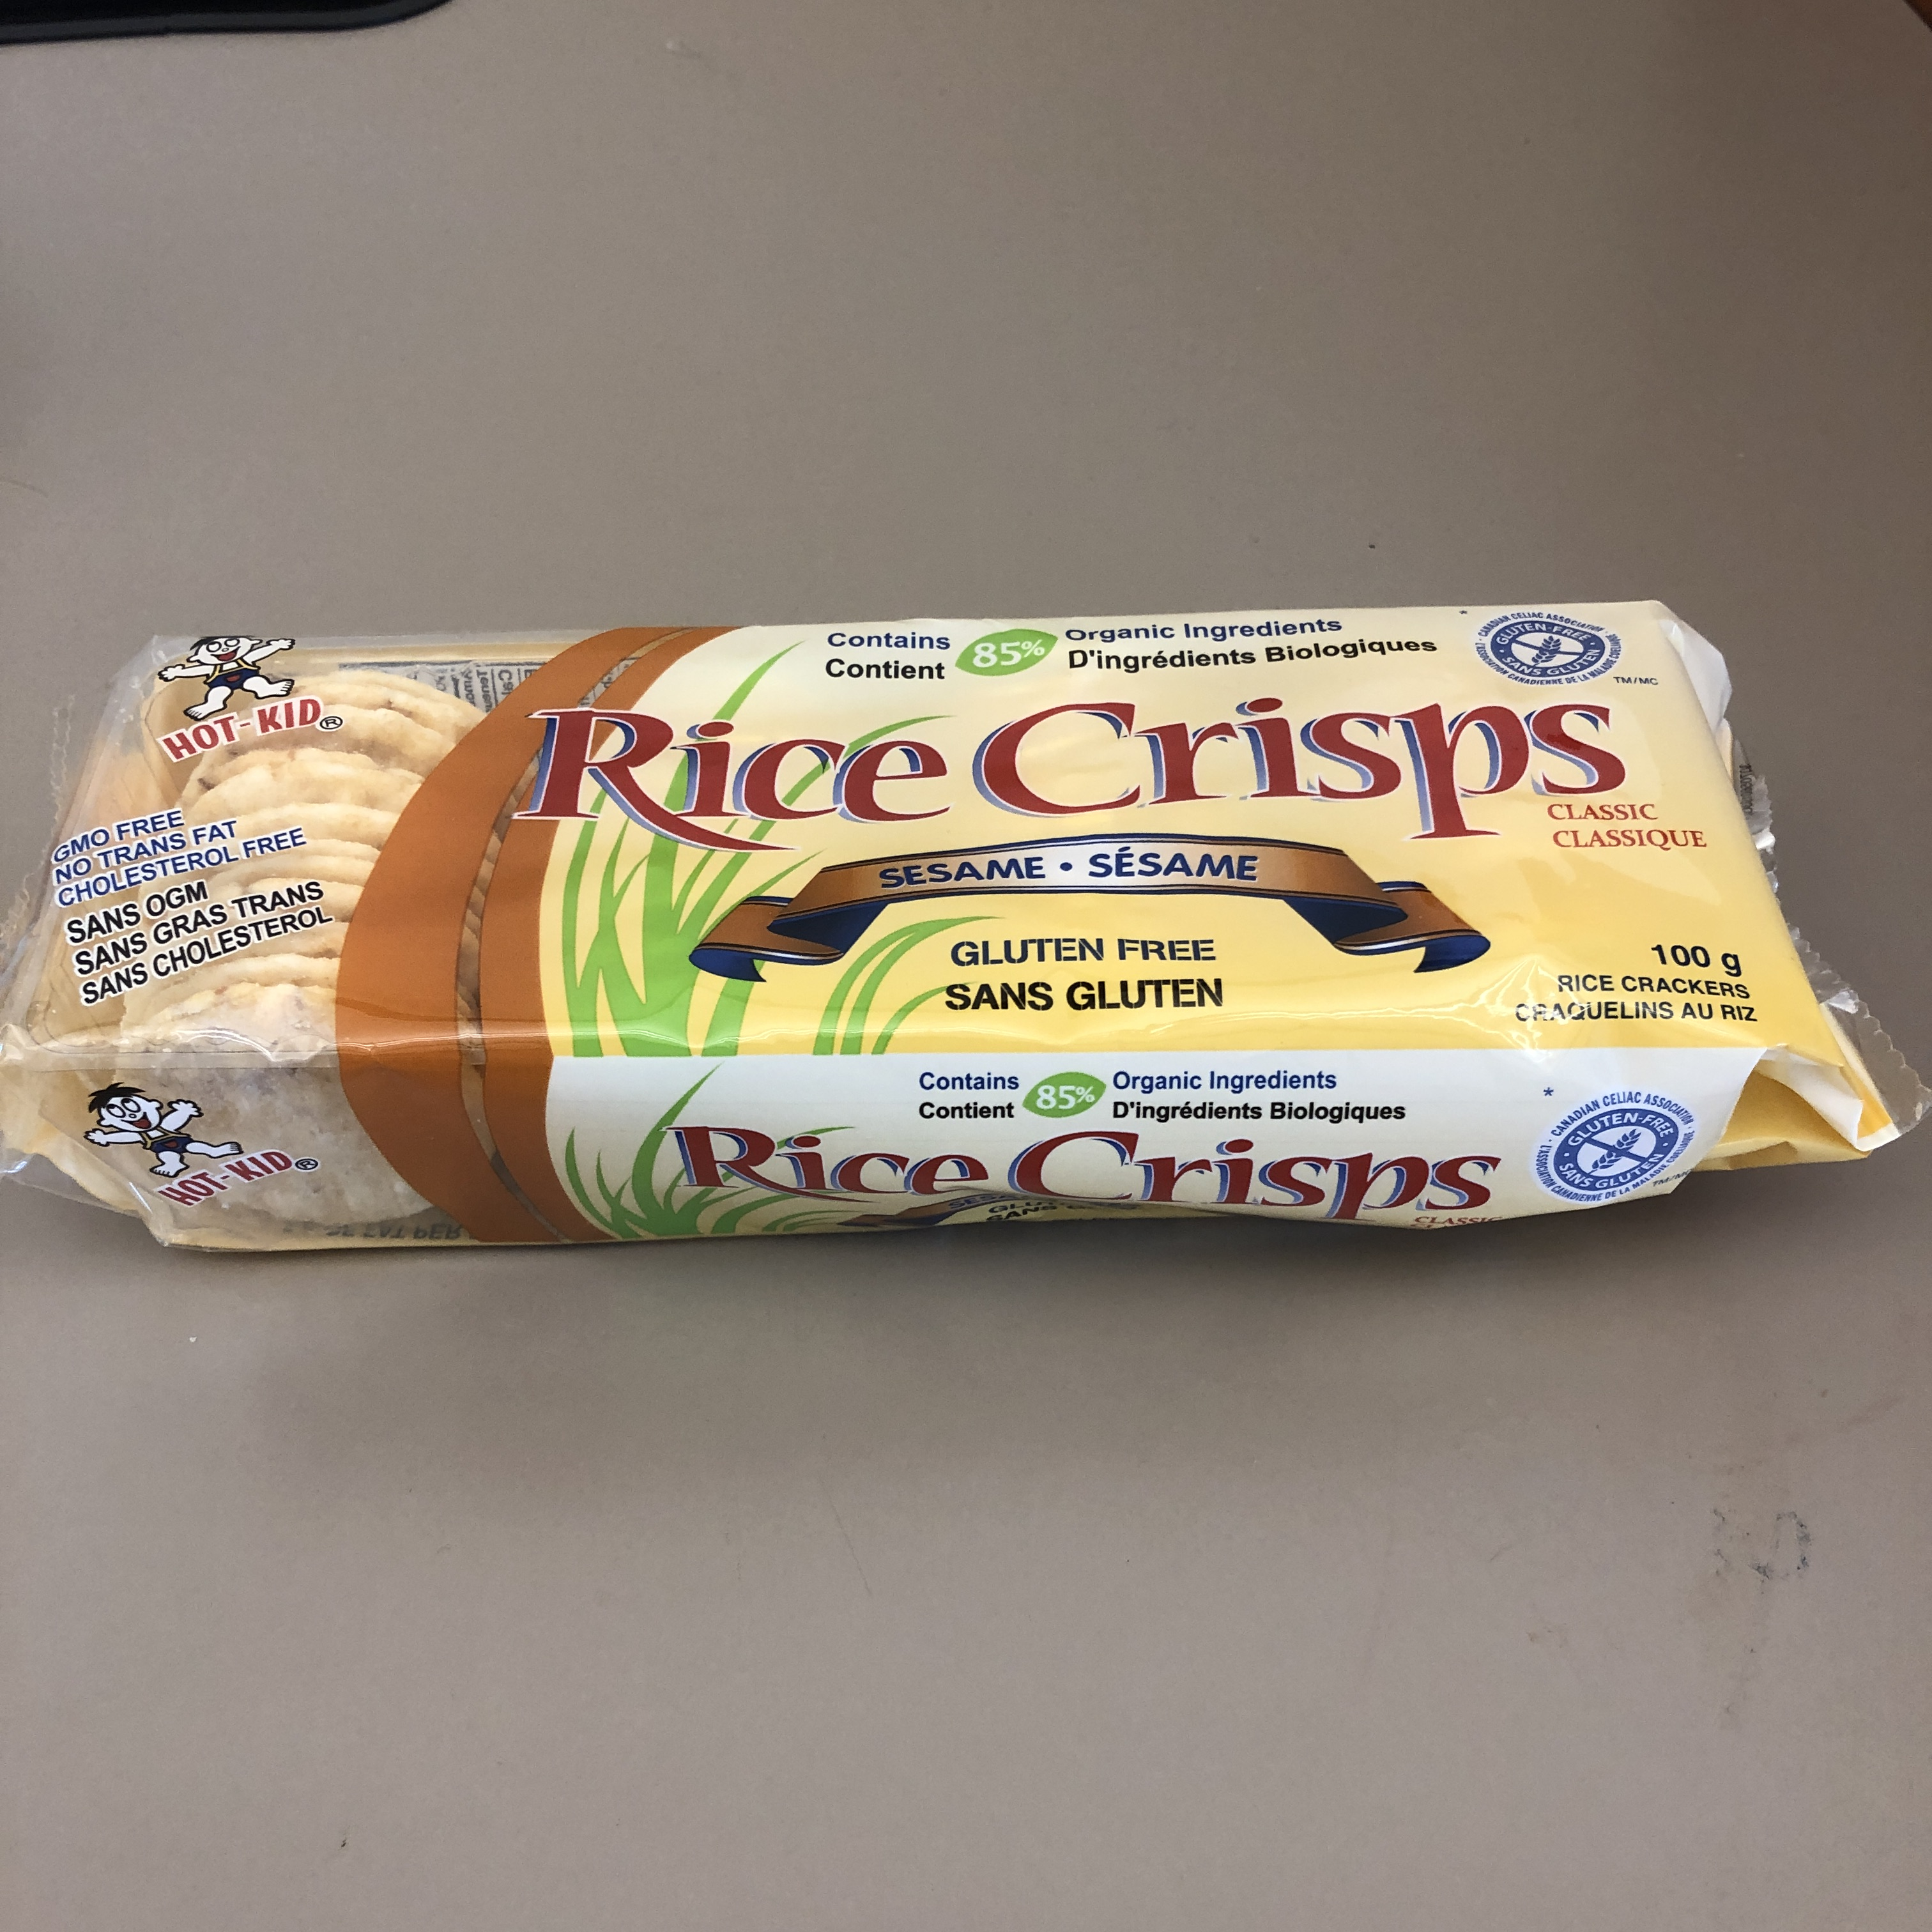hot_kid_rice_crisps_sesame: (604, 152, 1246, 1870)
